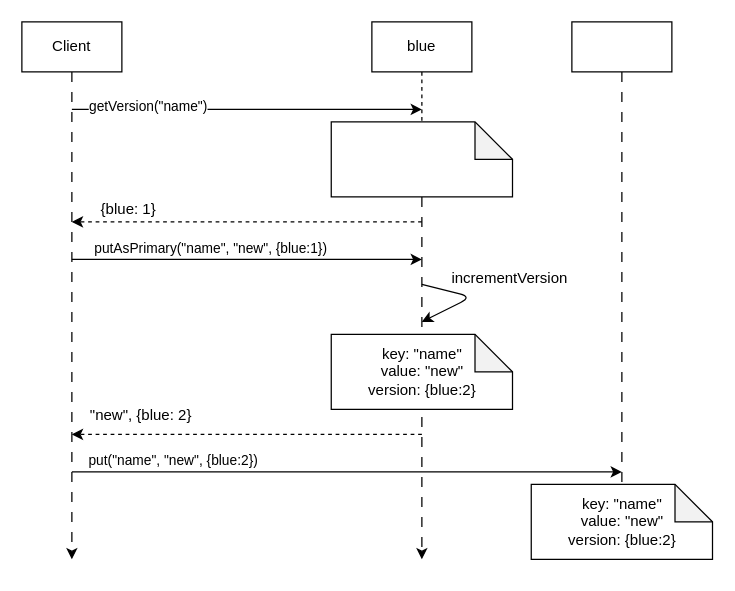
Image size: 735x591. Some labels were removed from this diagram. Here are the shapes that lost their labels. From the top down, the centre of each, then its label:
pixel 621 46: green
pixel 421 159: key: "name" value: "old" version: {blue:1}
